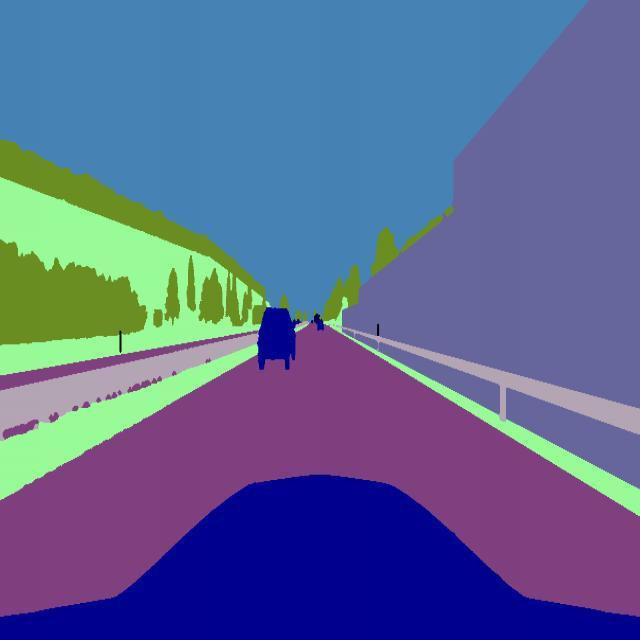safe: (256, 304, 299, 374), (315, 316, 326, 336)
